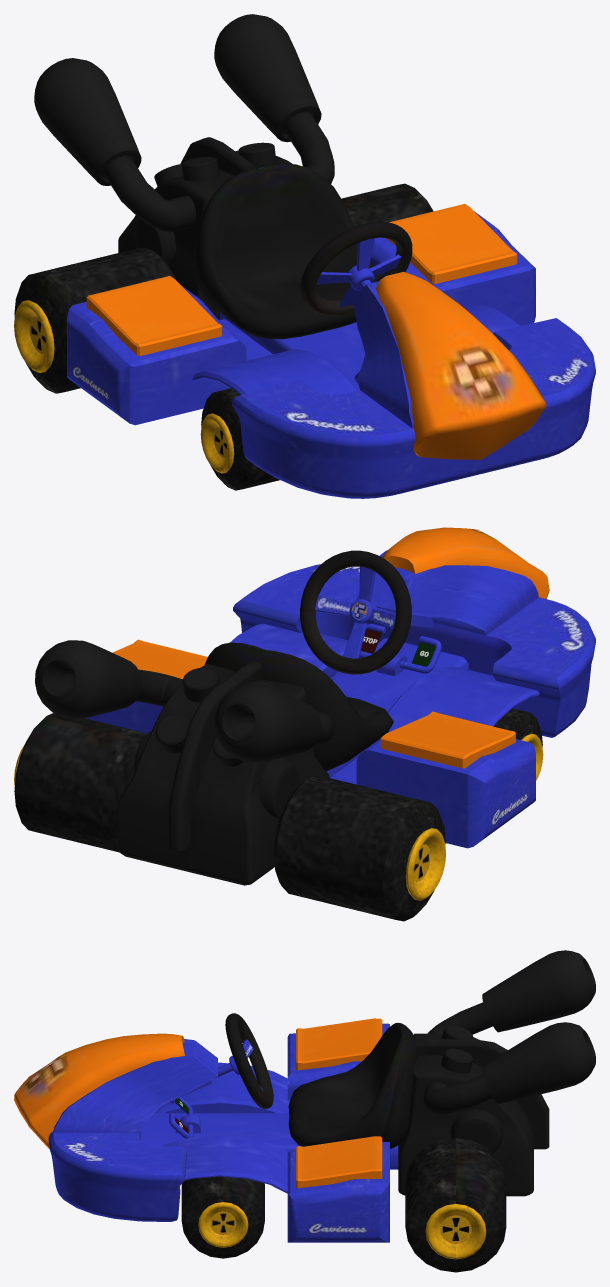
File: kart_cartoon.glb
The picture shows the model from 3 angles, top to bottom: view 1: azimuth 30°, elevation 25°; view 2: azimuth 150°, elevation 25°; view 3: azimuth 270°, elevation 25°; orthographic projection. The views are drawn at different scales.
Visible parts, largest first — view 1: Object_3, Object_4, Object_5; view 2: Object_3, Object_5, Object_4; view 3: Object_3, Object_4, Object_5.
Boxes of the visible parts, <box> form: Object_3: <box>14,106,595,498</box>; Object_4: <box>34,14,546,459</box>; Object_5: <box>14,163,433,490</box>; Object_3: <box>14,555,595,900</box>; Object_5: <box>14,550,542,921</box>; Object_4: <box>35,527,549,762</box>; Object_3: <box>48,955,595,1259</box>; Object_4: <box>14,950,595,1148</box>; Object_5: <box>175,1013,506,1272</box>.
Size of the model in its own units: 1.64 by 0.9733 by 2.42.
3 materials, 3 textured.
